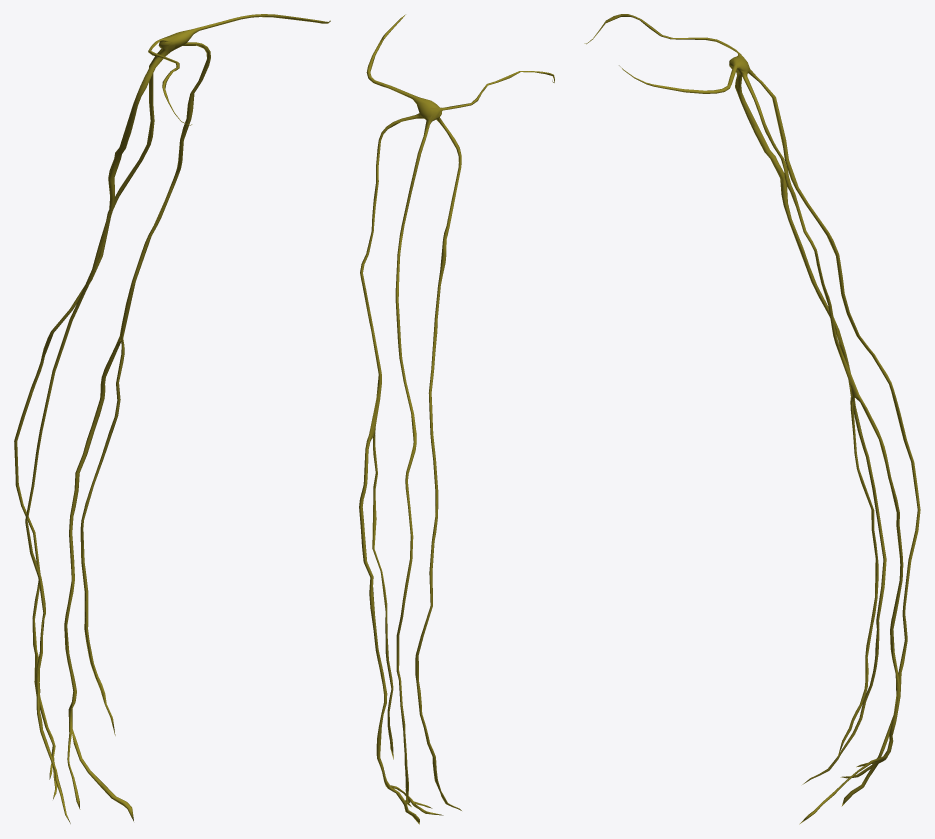
The model's file is L lymphocentrum popliteum.fbx.
3 renders of one model, left to right at view 1: azimuth 30°, elevation 25°; view 2: azimuth 150°, elevation 25°; view 3: azimuth 270°, elevation 25°, orthographic. The views are drawn at different scales.
Parts seen in each view (by area): view 1: L lymphocentrum popliteum, L lymphocentrum popliteum low; view 2: L lymphocentrum popliteum, L lymphocentrum popliteum low; view 3: L lymphocentrum popliteum, L lymphocentrum popliteum low.
Part boxes in pixels (x1,y1,x2,y2): L lymphocentrum popliteum: (14, 14, 330, 823); L lymphocentrum popliteum low: (14, 14, 322, 813); L lymphocentrum popliteum: (359, 14, 554, 824); L lymphocentrum popliteum low: (359, 32, 553, 823); L lymphocentrum popliteum: (584, 14, 920, 824); L lymphocentrum popliteum low: (607, 14, 918, 812).
Size of the model in its own units: 11.33 by 51.31 by 19.42.
